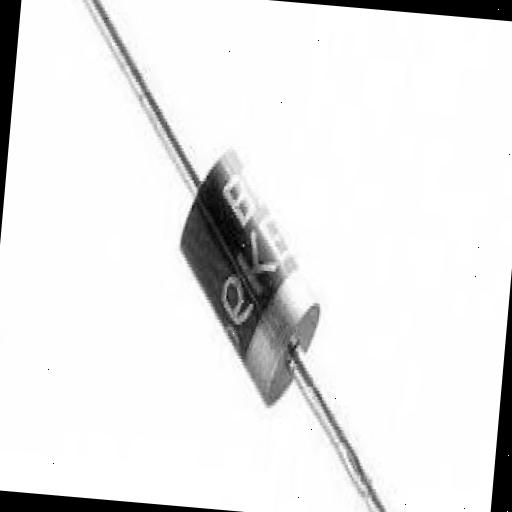DIODE: (27, 0, 439, 512)
